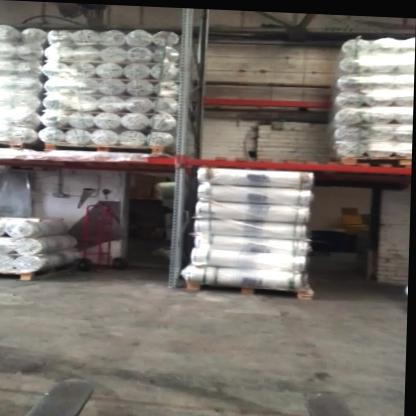vertical_damage: (159, 258, 188, 291)
